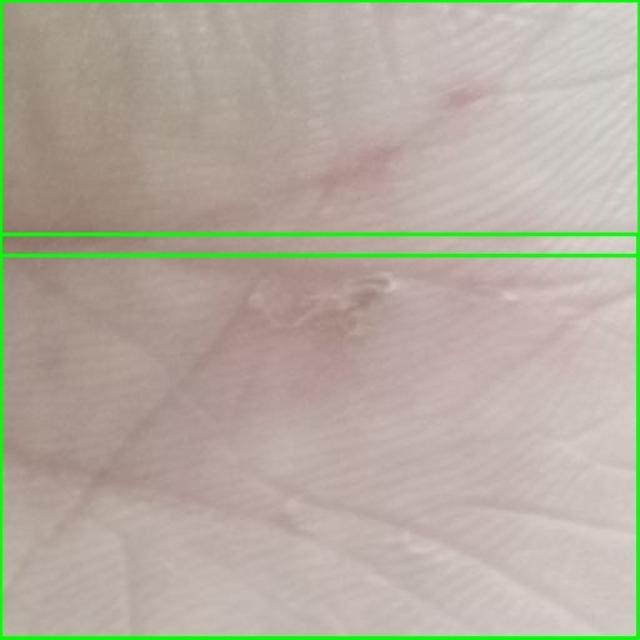Scabies: (0, 235, 639, 639), (0, 0, 639, 255)
